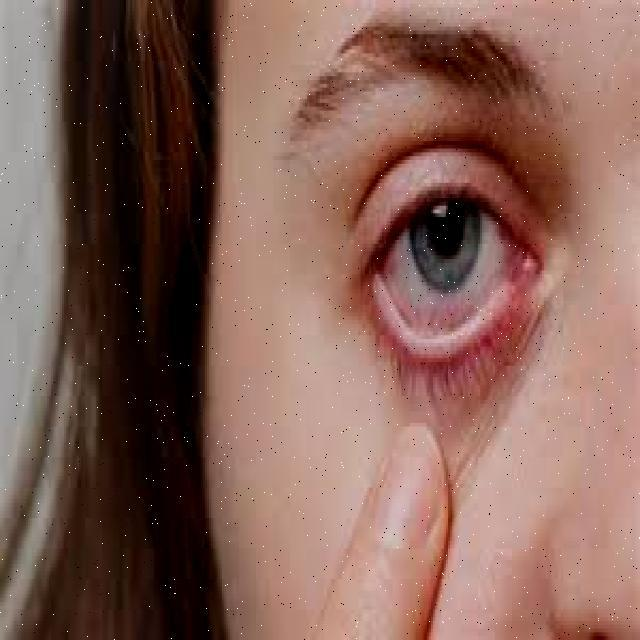Conjunctivitis: (366, 193, 550, 342)
